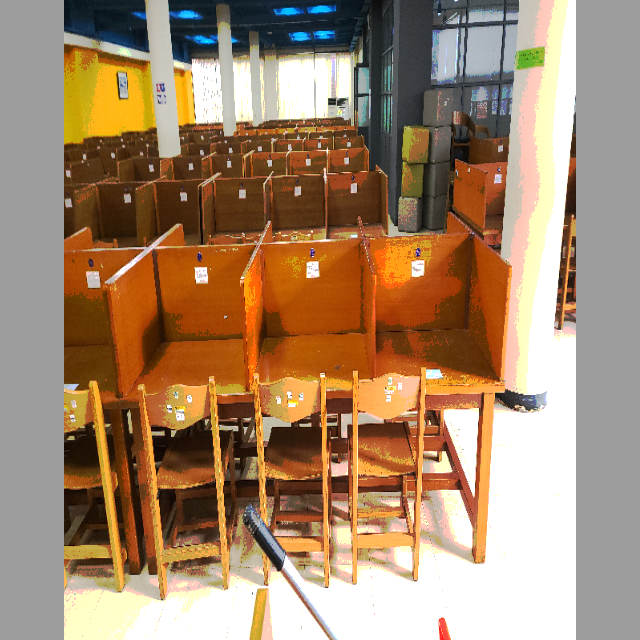empty: (375, 235, 510, 457), (118, 243, 248, 464), (253, 242, 372, 452)
